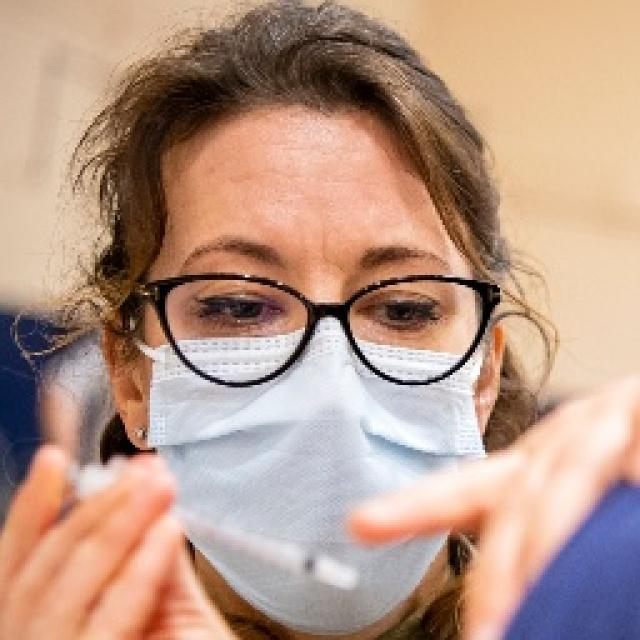glasses: (114, 246, 513, 400)
